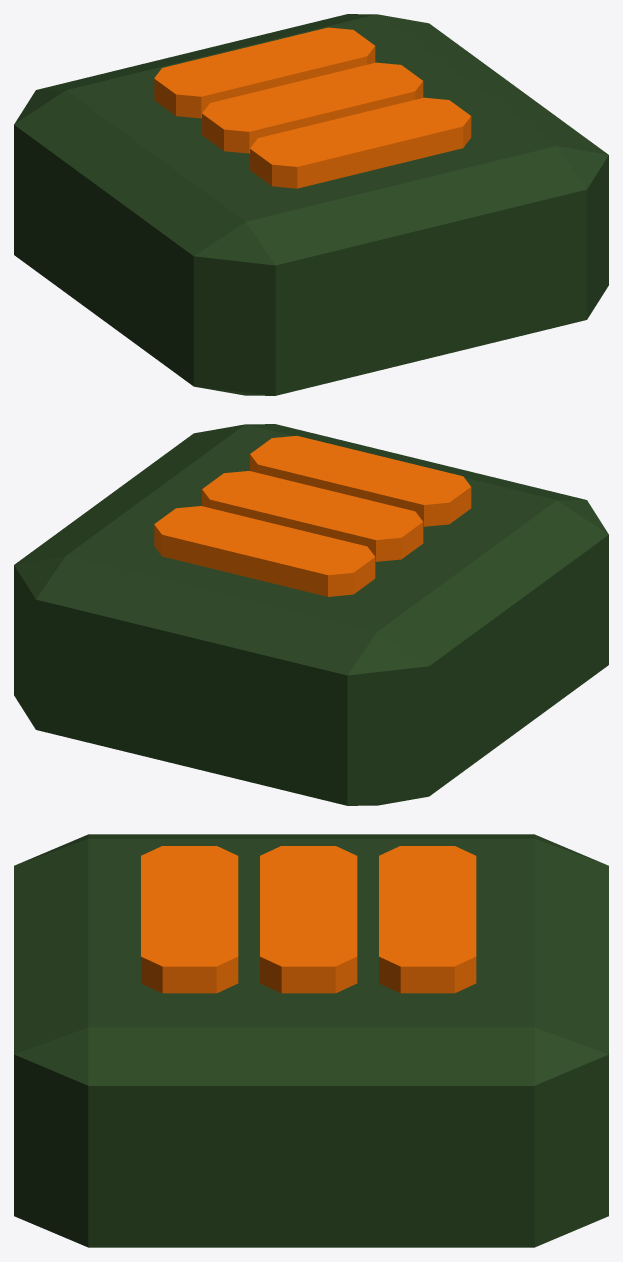
Rendered from Item_Ammo.fbx.
3 views of the same model, one above another, from view 1: azimuth 30°, elevation 25°; view 2: azimuth 150°, elevation 25°; view 3: azimuth 270°, elevation 25° (orthographic). The views are drawn at different scales.
Parts seen in each view (by area): view 1: block_bevel, guard (×3); view 2: block_bevel, guard (×3); view 3: block_bevel, guard (×3).
Part boxes in pixels (x1,y1,x2,y2): block_bevel: [14, 14, 608, 395]; guard (×3): [154, 27, 471, 188]; block_bevel: [14, 424, 608, 805]; guard (×3): [154, 436, 471, 596]; block_bevel: [14, 834, 608, 1247]; guard (×3): [141, 846, 476, 993].
Size of the model in its own units: 10 by 4.5 by 10.
